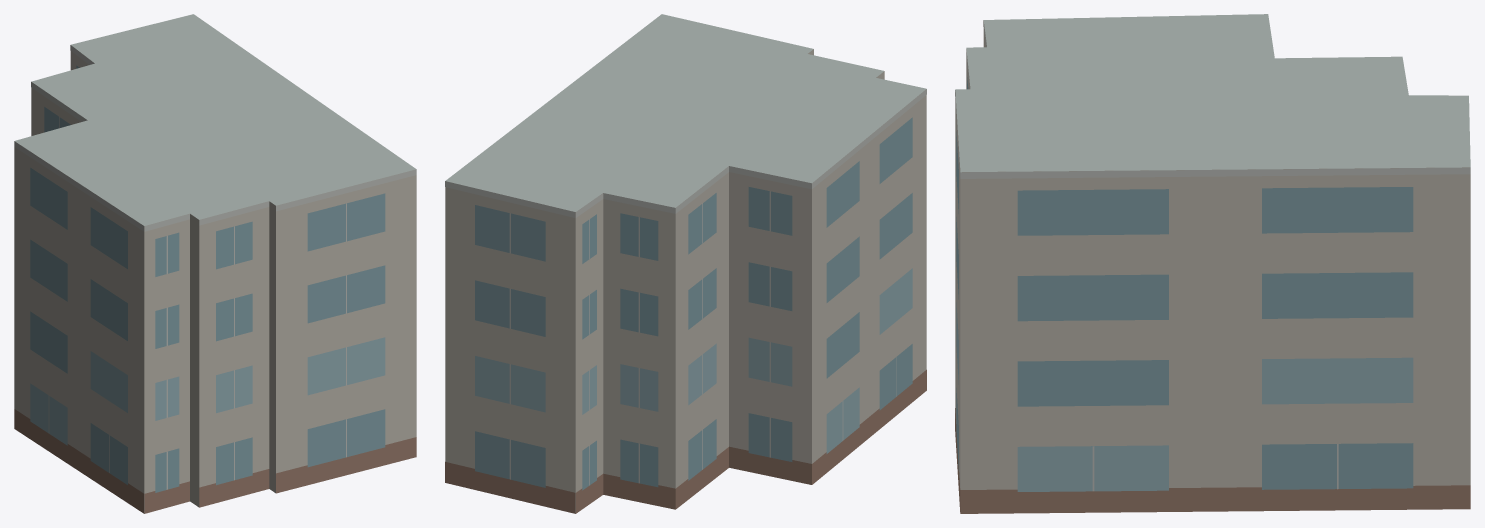
The model's file is survey-upis-32791179.glb.
3 views of the same model, side by side, from view 1: azimuth 30°, elevation 25°; view 2: azimuth 150°, elevation 25°; view 3: azimuth 270°, elevation 25° (orthographic). The views are drawn at different scales.
Visible parts, largest first — view 1: survey-upis-32791179.tmp; view 2: survey-upis-32791179.tmp; view 3: survey-upis-32791179.tmp.
Boxes of the visible parts, left/top/right/bottom form: survey-upis-32791179.tmp: left=14, top=14, right=416, bottom=513; survey-upis-32791179.tmp: left=445, top=14, right=926, bottom=513; survey-upis-32791179.tmp: left=955, top=14, right=1470, bottom=513.
Size of the model in its own units: 12.12 by 12.2 by 16.69.
